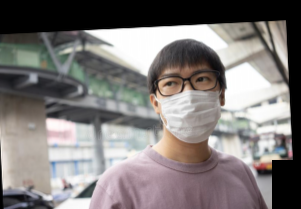with_mask: (156, 66, 222, 145)
